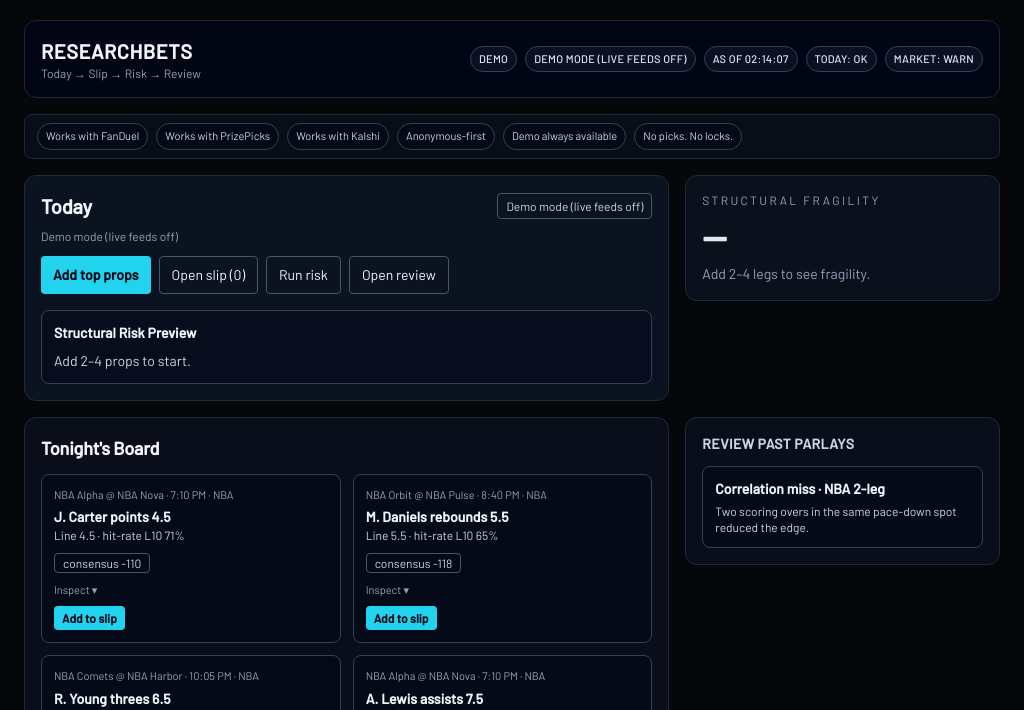
Test: LandingVisionClient › shows tracker with trace id after run risk
Click the button "Run risk" at (303, 274), box [266,256,341,294]
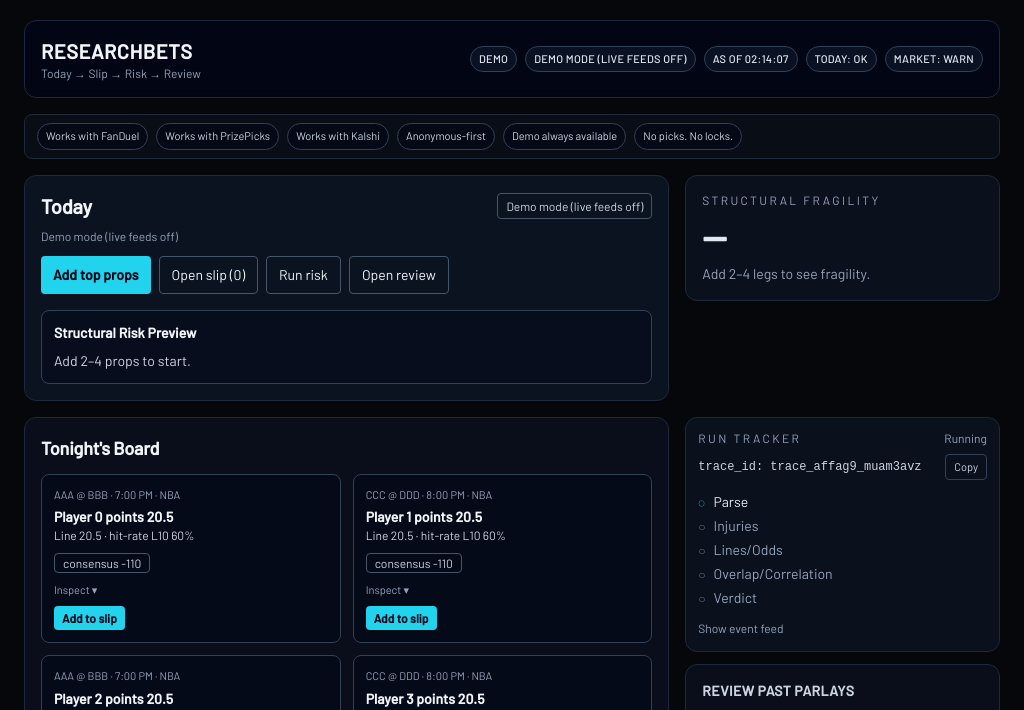
Check: the element named "tracker-lite" is shown, box [685,416,1000,652]
Check: the text "trace_id:" is shown, box [698,460,770,474]
Check: the text "Parse" is shown, box [714,492,748,512]
